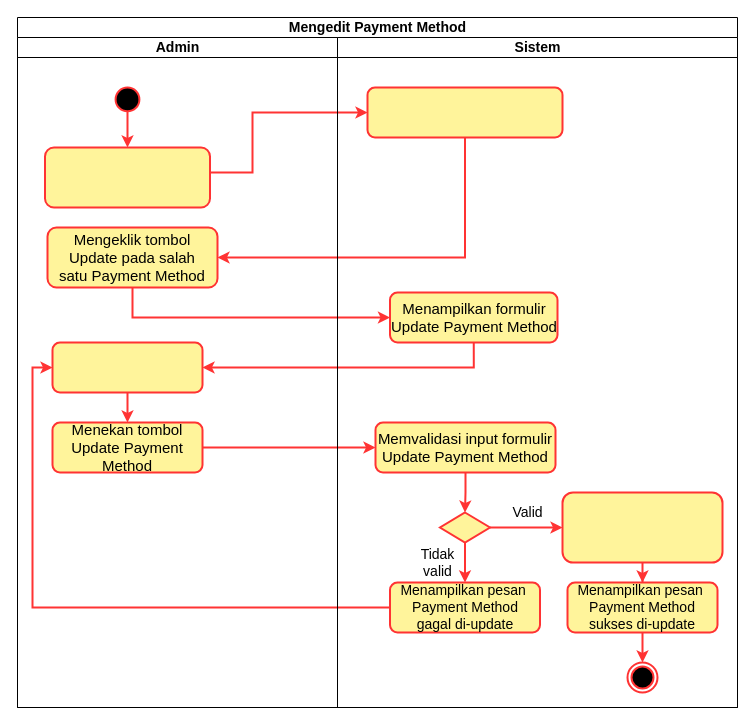
This 755x725 diagram has some shape labels left out. The centre of each missing label's shape, as x and y in pixels:
Menampilkan halaman Payment Methods Admin: (x=464, y=112)
Mengeklik menu Payment Methods pada sidebar Admin: (x=127, y=177)
Mengisi formulir Update Payment Method: (x=127, y=367)
Menyimpan Payment Method berdasarkan input formulir Update Payment Method: (x=642, y=527)
